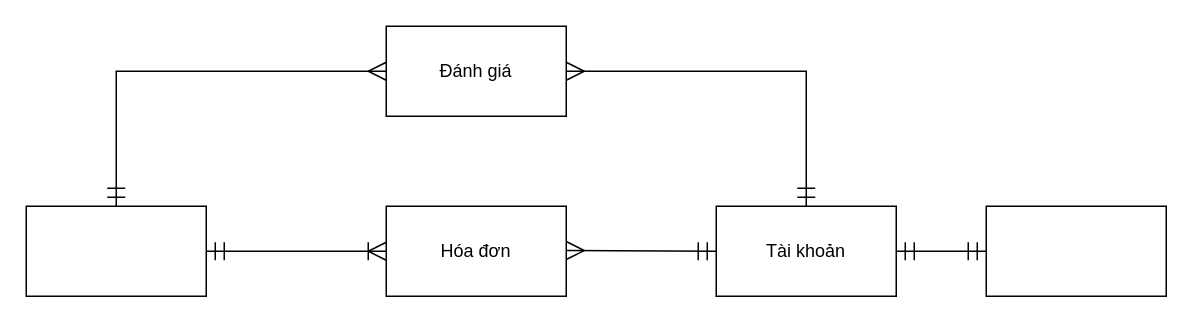
The diagram is 1193 pixels wide and 323 high, and some of its shapes have lost their labels. The box of each missing label's shape, as (x1, y1, x2, y2) in pixels:
Laptop: (25, 205, 206, 296)
Người dùng: (985, 205, 1166, 296)
